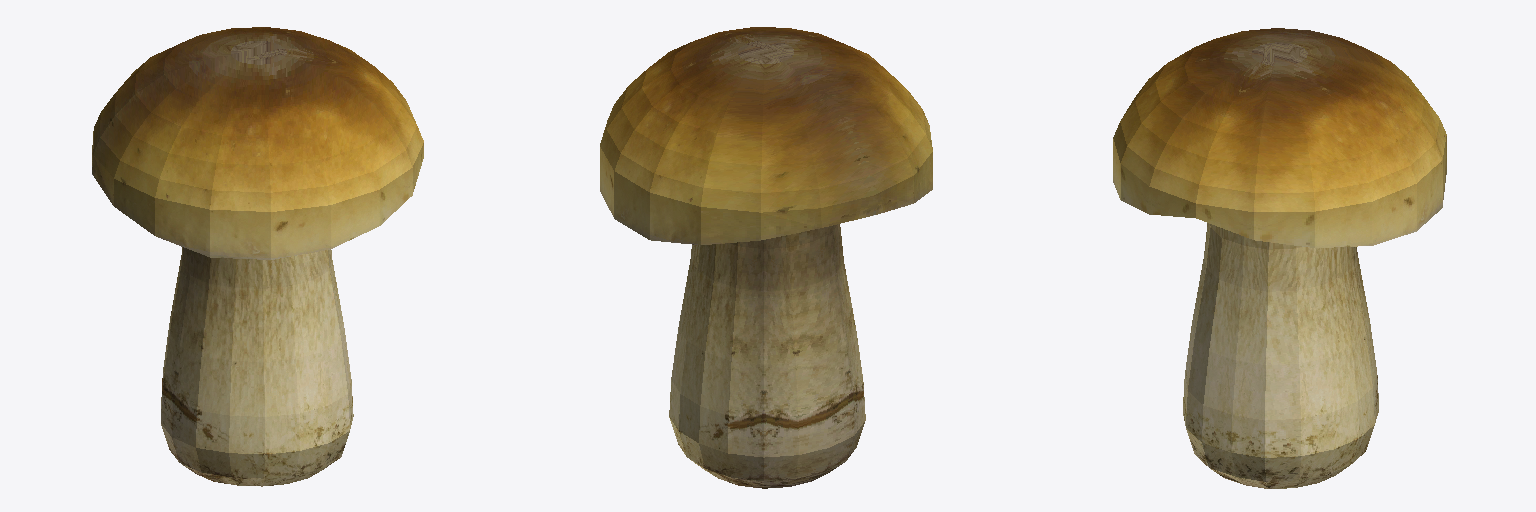
The picture shows the model from 3 angles: view 1: azimuth 30°, elevation 25°; view 2: azimuth 150°, elevation 25°; view 3: azimuth 270°, elevation 25°; orthographic projection.
Visible parts, largest first — view 1: toadstool1_b; view 2: toadstool1_b; view 3: toadstool1_b.
Part boxes in pixels (left/top/right/bottom): toadstool1_b: left=92, top=27, right=423, bottom=486; toadstool1_b: left=600, top=27, right=932, bottom=488; toadstool1_b: left=1113, top=28, right=1446, bottom=488.
Bounding box in the file's own units: 17.6 × 23.8 × 17.64.
1 materials, 1 textured.